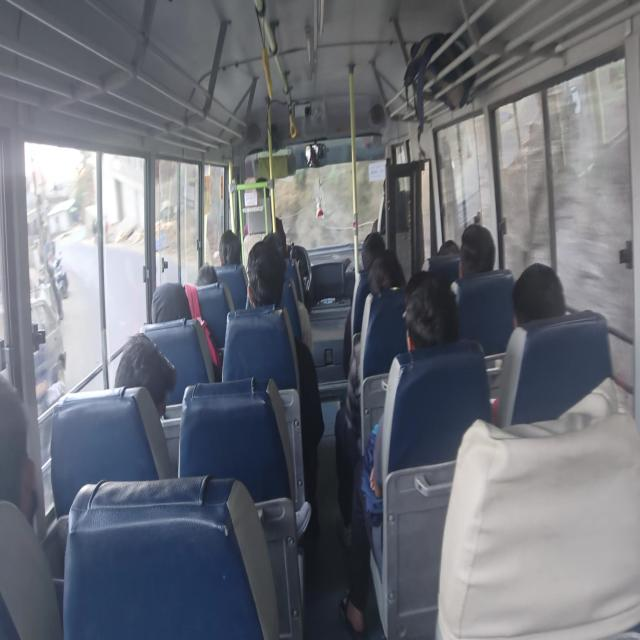person: (502, 272, 572, 356), (403, 267, 468, 351), (133, 332, 188, 429), (140, 287, 200, 358), (0, 388, 30, 503), (370, 252, 425, 314), (245, 245, 286, 310), (194, 264, 232, 320), (458, 234, 492, 282), (211, 227, 244, 273), (263, 233, 299, 270), (358, 230, 383, 266), (440, 227, 460, 253)
